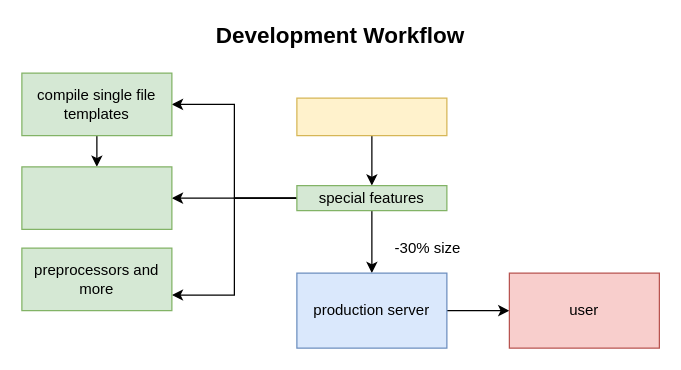
Some shapes in this 681 by 370 pixel diagram are drawn without their labels. The centre of each missing label's shape, as x and y in pixels:
"case insensitive component selectors" goes at (x=96, y=197).
"code" goes at (x=371, y=116).
